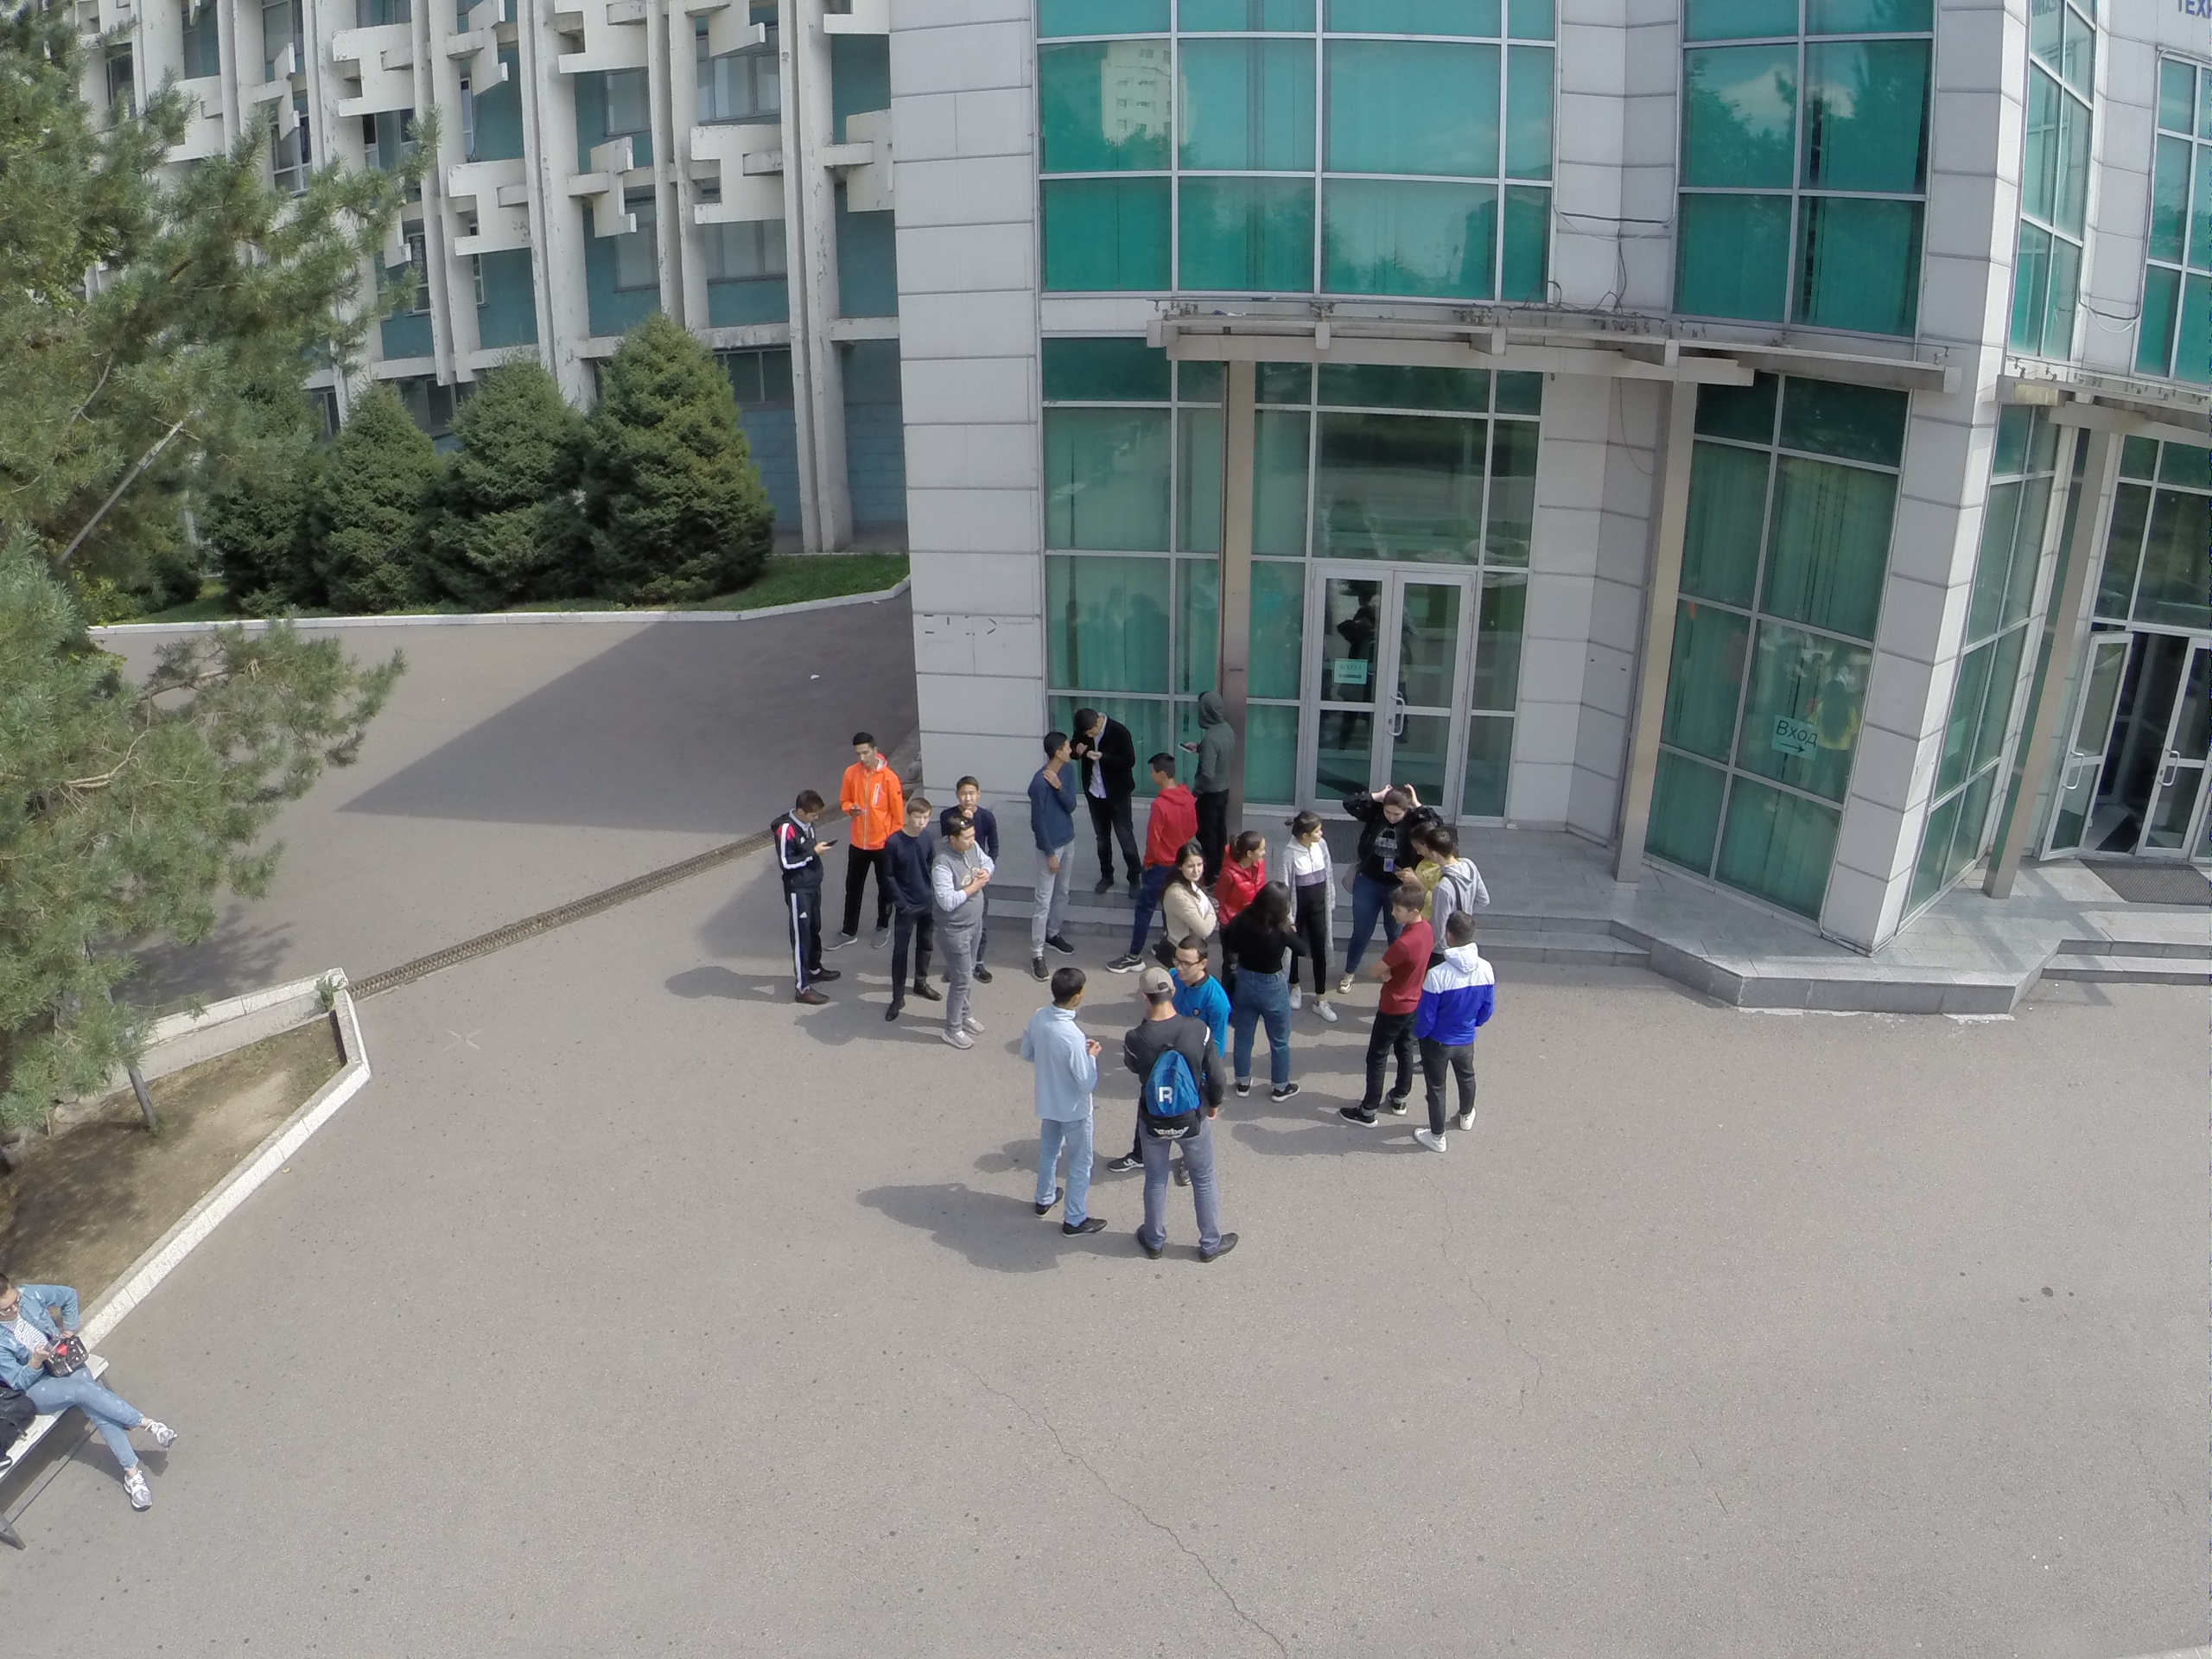person: (1, 1267, 177, 1512), (1124, 965, 1243, 1269), (1027, 963, 1111, 1244), (1415, 909, 1498, 1162), (1346, 887, 1428, 1125), (1227, 875, 1300, 1103), (767, 784, 837, 1010), (1282, 808, 1352, 1024), (877, 794, 940, 1030), (1068, 702, 1143, 893), (930, 810, 987, 1058), (833, 727, 894, 953), (1340, 778, 1399, 989), (1129, 749, 1185, 966), (1025, 728, 1074, 972), (1183, 684, 1230, 851), (1426, 824, 1490, 927), (1166, 933, 1233, 1023), (1166, 841, 1216, 936), (1224, 833, 1268, 906), (941, 771, 997, 829)
